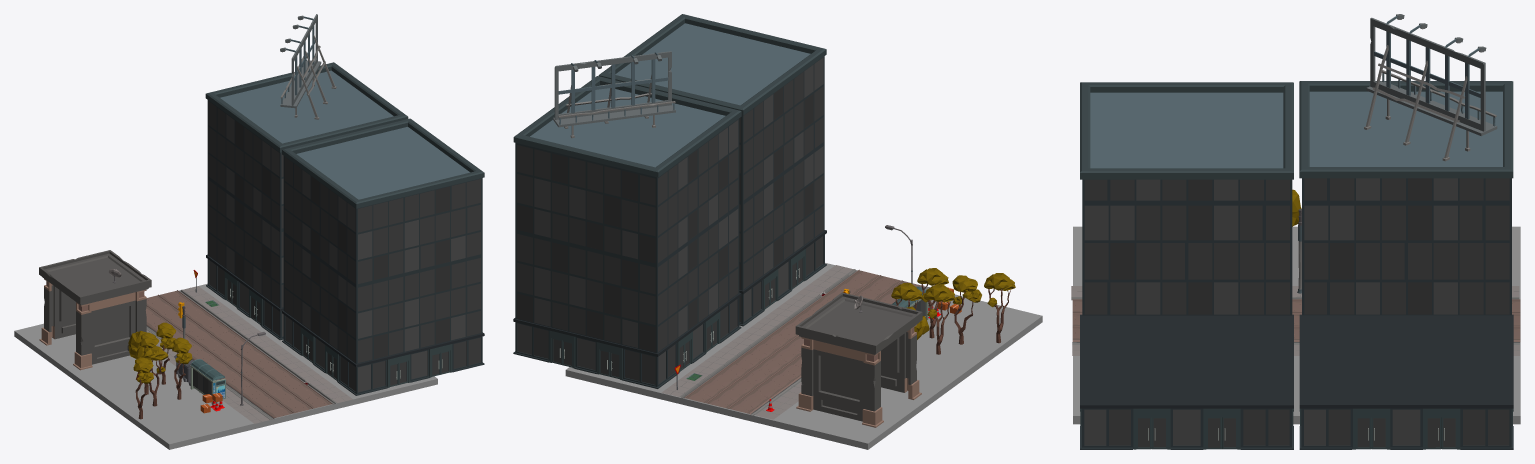
File: City Area 8.fbx
3 renders of one model, left to right at view 1: azimuth 30°, elevation 25°; view 2: azimuth 150°, elevation 25°; view 3: azimuth 270°, elevation 25°, orthographic. The views are drawn at different scales.
Visible parts, largest first — view 1: SM_Bld_OfficeSquare_Base_01_Glass.001, SM_Bld_OfficeSquare_02.002, SM_Env_Sidewalk_Straight_01.109, Plane.008, SM_Bld_OfficeSquare_Roof_01.002, SM_Bld_Station_02, SM_Bld_OfficeSquare_Roof_01, SM_Bld_OfficeSquare_Base_01_Glass, SM_Bld_OfficeSquare_02.001, SM_Prop_Billboard_Roof_01, SM_Prop_BusStop_01, SM_Env_Tree_02.039 (+3 smaller); view 2: SM_Bld_OfficeSquare_Base_01_Glass, SM_Bld_OfficeSquare_02.001, Plane.008, SM_Bld_Station_02, SM_Env_Sidewalk_Straight_01.109, SM_Bld_OfficeSquare_Roof_01.002, SM_Bld_OfficeSquare_Roof_01, SM_Bld_OfficeSquare_Base_01_Glass.001, SM_Bld_OfficeSquare_02.002, SM_Prop_Billboard_Roof_01, SM_Env_Tree_02.027, SM_Env_Tree_02.018 (+2 smaller); view 3: SM_Bld_OfficeSquare_Base_01_Glass.001, SM_Bld_OfficeSquare_Base_01_Glass, SM_Bld_OfficeSquare_Roof_01.002, SM_Bld_OfficeSquare_Roof_01, SM_Prop_Billboard_Roof_01, SM_Bld_OfficeSquare_02.001, SM_Bld_OfficeSquare_02.002, Plane.008, SM_Env_Sidewalk_Straight_01.109.
Part boxes in pixels (x1,y1,x2,y2): SM_Bld_OfficeSquare_Base_01_Glass.001: (282,232,484,395); SM_Bld_OfficeSquare_02.002: (283,156,482,284); SM_Env_Sidewalk_Straight_01.109: (145,270,352,423); Plane.008: (14,283,437,449); SM_Bld_OfficeSquare_Roof_01.002: (282,118,484,208); SM_Bld_Station_02: (39,250,151,370); SM_Bld_OfficeSquare_Roof_01: (205,62,408,152); SM_Bld_OfficeSquare_Base_01_Glass: (206,176,283,340); SM_Bld_OfficeSquare_02.001: (207,100,283,229); SM_Prop_Billboard_Roof_01: (280,14,336,119); SM_Prop_BusStop_01: (190,359,225,404); SM_Env_Tree_02.039: (172,337,192,399); SM_Bld_OfficeSquare_Base_01_Glass: (513,205,741,388); SM_Bld_OfficeSquare_02.001: (515,118,739,264); Plane.008: (565,263,1042,449); SM_Bld_Station_02: (795,292,922,427); SM_Env_Sidewalk_Straight_01.109: (661,225,933,419); SM_Bld_OfficeSquare_Roof_01.002: (598,14,826,115); SM_Bld_OfficeSquare_Roof_01: (513,76,741,177); SM_Bld_OfficeSquare_Base_01_Glass.001: (739,142,826,326); SM_Bld_OfficeSquare_02.002: (739,56,824,202); SM_Prop_Billboard_Roof_01: (553,51,675,138); SM_Env_Tree_02.027: (952,275,981,344); SM_Env_Tree_02.018: (923,284,955,354); SM_Bld_OfficeSquare_Base_01_Glass.001: (1080,201,1293,449); SM_Bld_OfficeSquare_Base_01_Glass: (1299,201,1513,449); SM_Bld_OfficeSquare_Roof_01.002: (1080,82,1293,179); SM_Bld_OfficeSquare_Roof_01: (1299,81,1513,178); SM_Prop_Billboard_Roof_01: (1364,14,1497,161); SM_Bld_OfficeSquare_02.001: (1302,178,1511,201); SM_Bld_OfficeSquare_02.002: (1082,179,1292,201); Plane.008: (1073,226,1520,424); SM_Env_Sidewalk_Straight_01.109: (1071,209,1520,355).
Size of the model in its own units: 11950 by 9385 by 10037.
